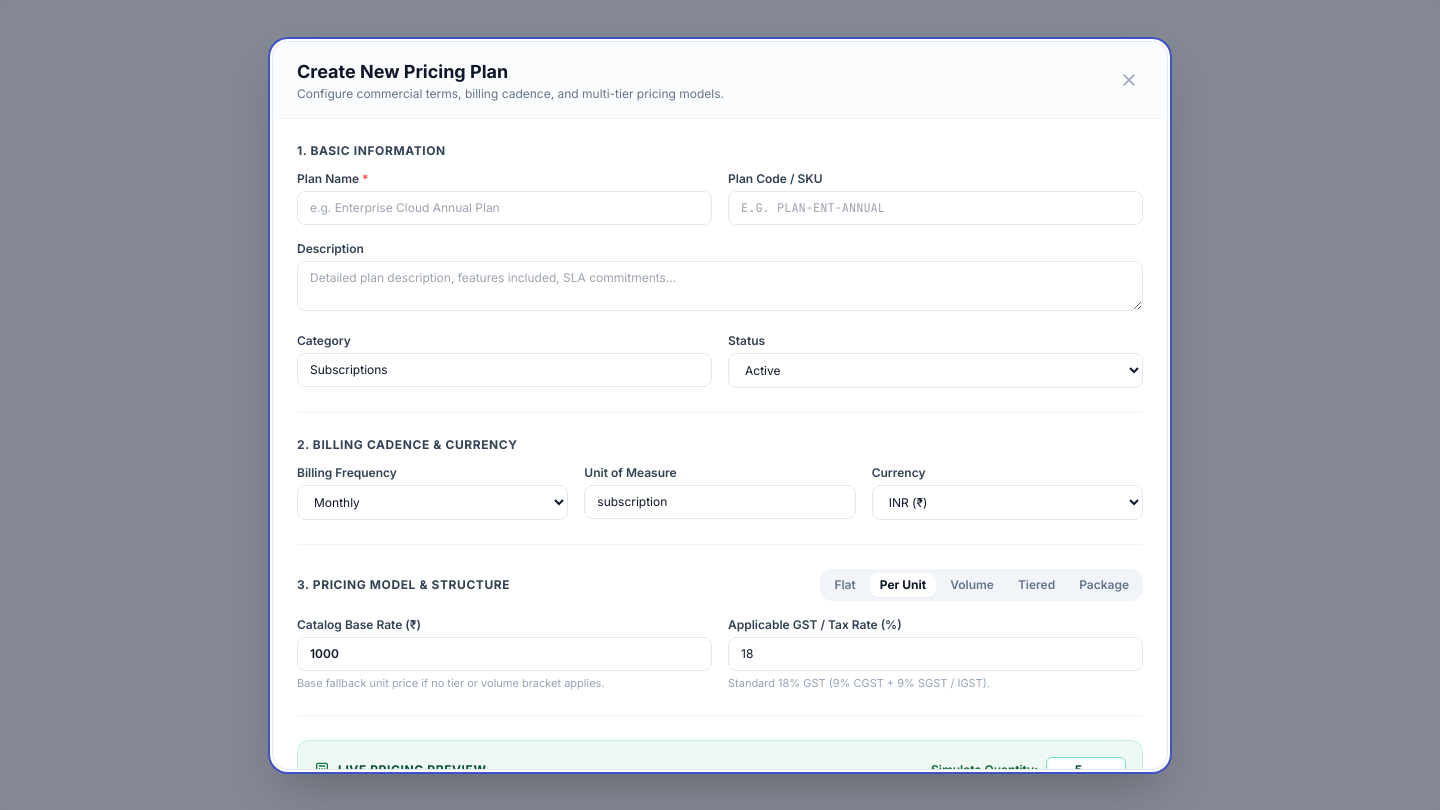
Test: <PlanModal /> Currency Display and Dynamic Formatting › updates dynamically for EUR (€) and GBP (£)
// Switch to EUR
Select "EUR (€)" in the dropdown showing "INR (₹)" at {"x": 1007, "y": 502}, box [872, 484, 1143, 520]
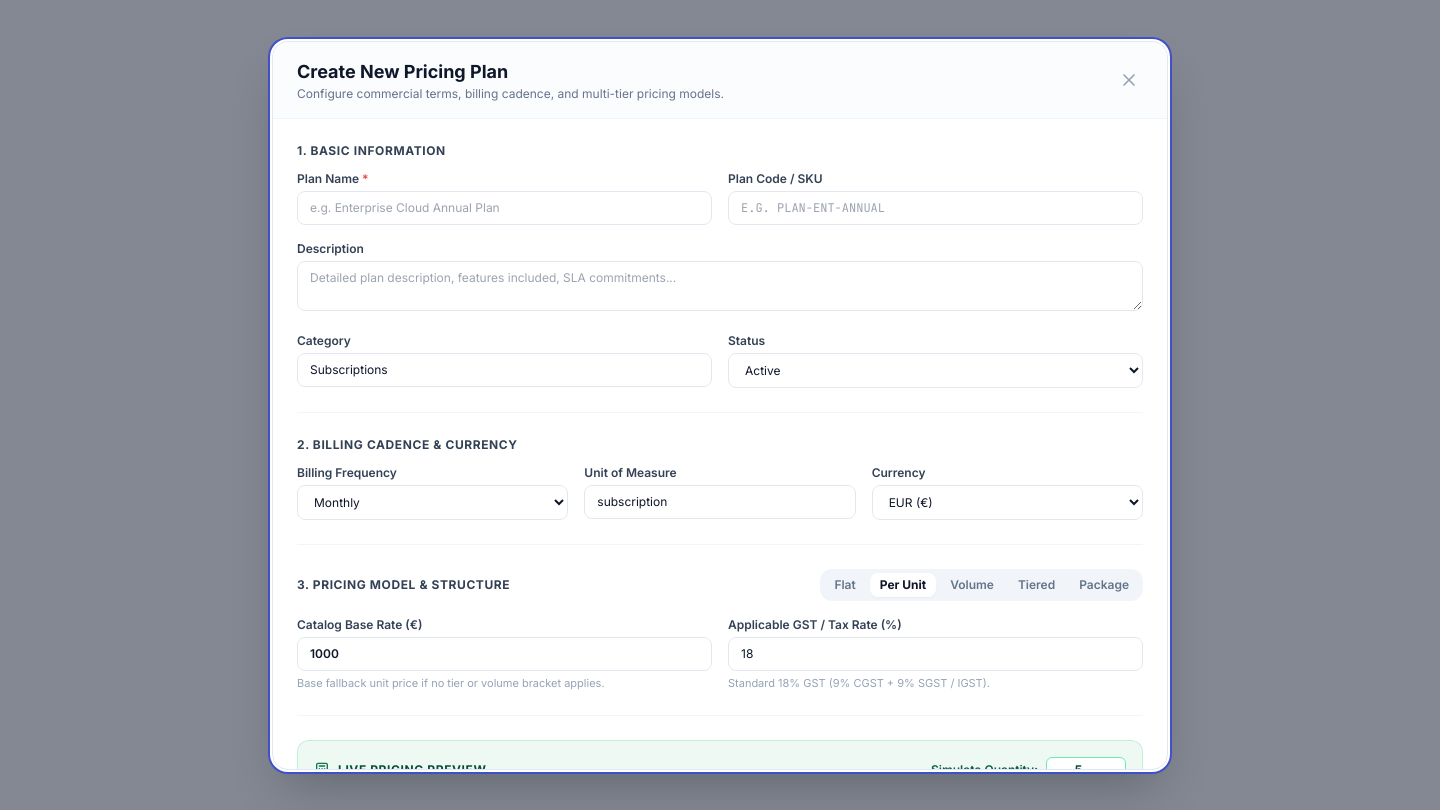
Result: the text "Catalog Base Rate (€)" is shown at [297, 616, 422, 632]
// Switch to GBP
Select "GBP (£)" in the dropdown showing "INR (₹)" at {"x": 1007, "y": 502}, box [872, 484, 1143, 520]
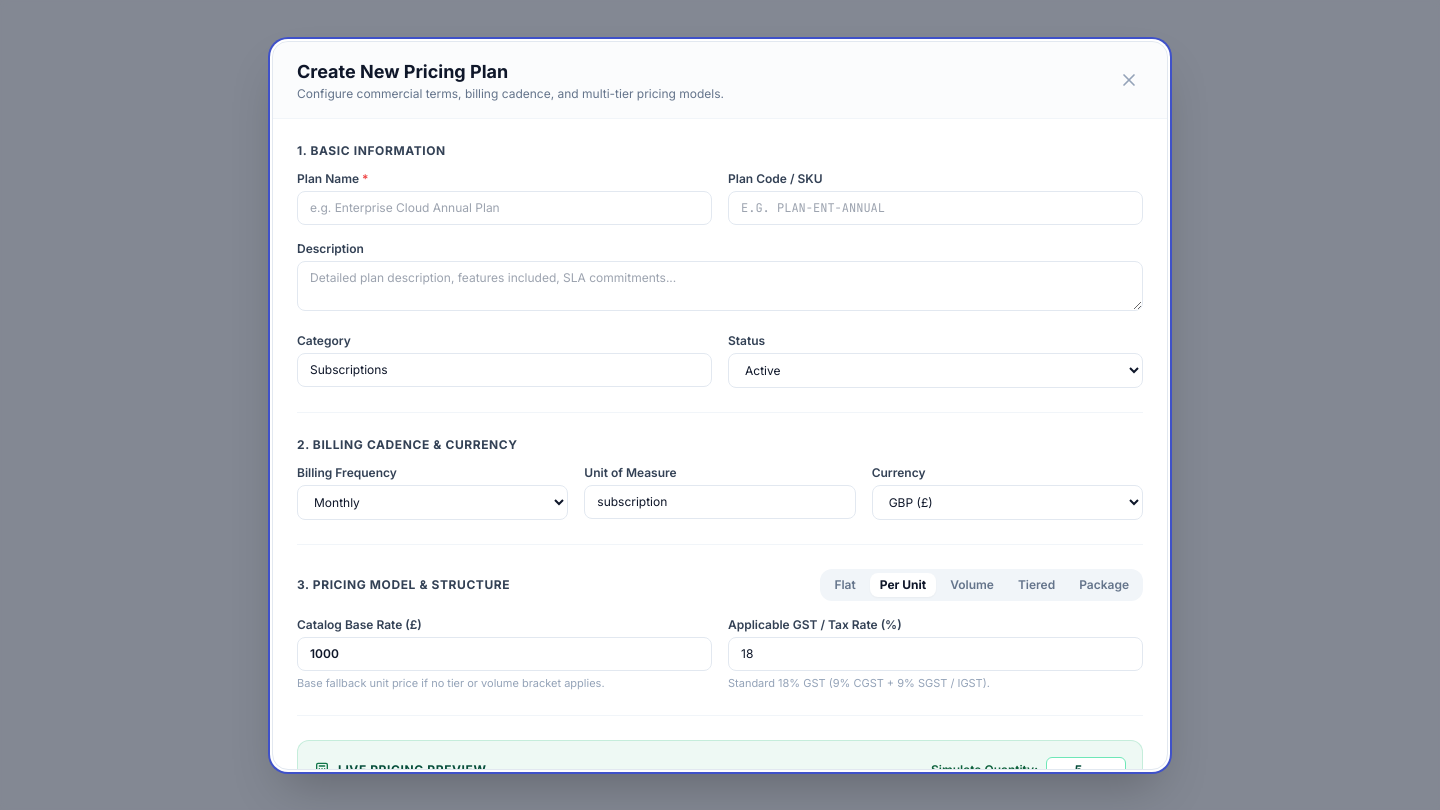
Result: the text "Catalog Base Rate (£)" is shown at [297, 616, 422, 632]
